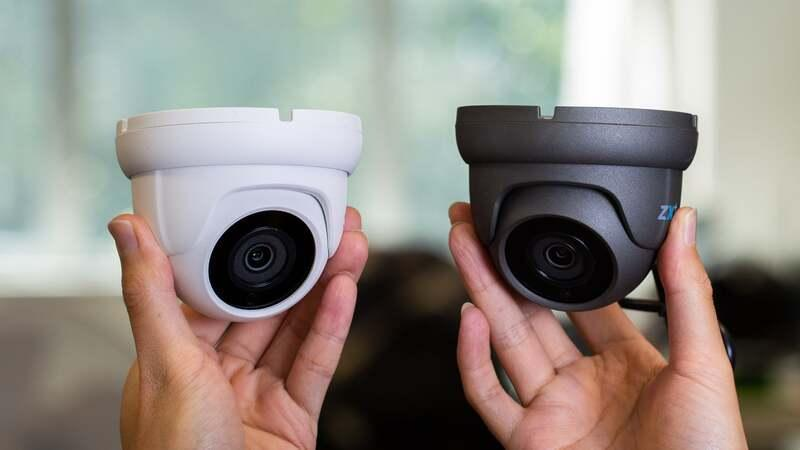turret: (440, 92, 695, 319), (104, 112, 368, 316)
